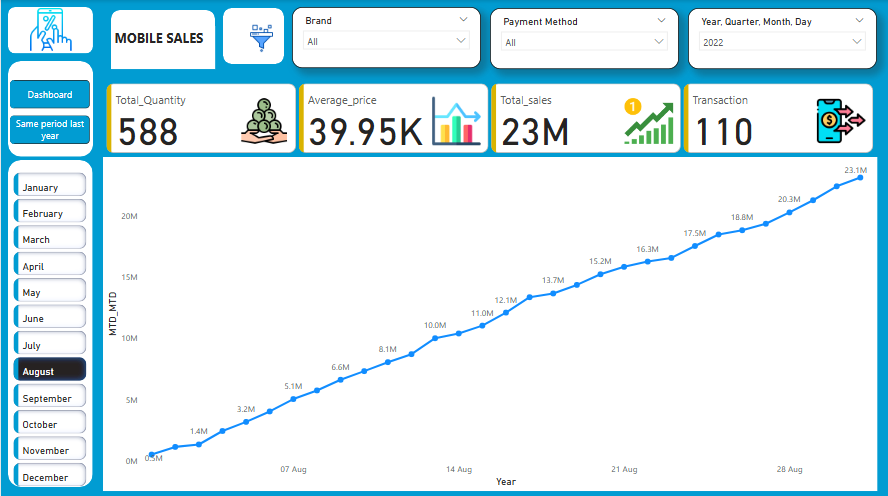

The dashboard page shown, as its layout file describes it:
{"tool":"powerbi","page":{"name":"MTD","canvas":[1280,720],"ordinal":2},"visuals":[{"type":"shape","box":[158.4,14.4,149.8,85],"z":0},{"type":"shape","box":[10.1,10.1,122.6,67.2],"z":1000},{"type":"shape","box":[10.1,87.3,122.6,137.7],"z":2000},{"type":"cardVisual","fields":{"Data":["sales_data.Total_Quantity","sales_data.Average_price","sales_data.Total_sales","sales_data.Transaction"]},"box":[146.9,115.2,1114.6,110.9],"z":3000},{"type":"slicer","fields":{"Values":["sales_data.Brand"]},"box":[419,10.1,272.2,87.8],"z":4000},{"type":"slicer","fields":{"Values":["sales_data.Payment Method"]},"box":[704.2,11.5,272.2,87.8],"z":5000},{"type":"slicer","fields":{"Values":["calender.Column1.Variation.Date Hierarchy.Year","calender.Column1.Variation.Date Hierarchy.Quarter","calender.Column1.Variation.Date Hierarchy.Month","calender.Column1.Variation.Date Hierarchy.Day"]},"box":[989.3,11.5,272.2,87.8],"z":6000},{"type":"shape","box":[319.7,11.5,87.8,80.6],"z":7000},{"type":"image","box":[331.2,30.2,87.8,50.4],"z":8000},{"type":"textbox","box":[158.4,37.4,149.8,61.9],"z":9000},{"type":"image","box":[28.8,4.3,85,76.3],"z":10000},{"type":"lineChart","fields":{"Category":["calender.Column1.Variation.Date Hierarchy.Year","calender.Column1.Variation.Date Hierarchy.Quarter","calender.Column1.Variation.Date Hierarchy.Month","calender.Column1.Variation.Date Hierarchy.Day"],"Y":["calender.MTD_MTD"]},"box":[146.9,226.1,1114.6,481],"z":11000},{"type":"shape","box":[10.1,230.4,122.4,470.9],"z":12000},{"type":"advancedSlicerVisual","fields":{"Values":["calender.Column1.Variation.Date Hierarchy.Month"]},"box":[13.4,243.6,115.9,467],"z":13000},{"type":"pageNavigator","box":[13,115.2,115.2,93.6],"z":14000}]}

Visuals, with their boxes in screenshot pixels (x1, y1, x2, y2), scaled from the page's 1280x720 canvas onto the 888x496 screenshot:
shape: (x1=110, y1=10, x2=214, y2=68)
shape: (x1=7, y1=7, x2=92, y2=53)
shape: (x1=7, y1=60, x2=92, y2=155)
cardVisual - sales_data.Total_Quantity x sales_data.Average_price: (x1=102, y1=79, x2=875, y2=156)
slicer - sales_data.Brand: (x1=291, y1=7, x2=480, y2=67)
slicer - sales_data.Payment Method: (x1=489, y1=8, x2=677, y2=68)
slicer - calender.Column1.Variation.Date Hierarchy.Year x calender.Column1.Variation.Date Hierarchy.Quarter: (x1=686, y1=8, x2=875, y2=68)
shape: (x1=222, y1=8, x2=283, y2=63)
image: (x1=230, y1=21, x2=291, y2=56)
textbox: (x1=110, y1=26, x2=214, y2=68)
image: (x1=20, y1=3, x2=79, y2=56)
lineChart - calender.Column1.Variation.Date Hierarchy.Year x calender.Column1.Variation.Date Hierarchy.Quarter: (x1=102, y1=156, x2=875, y2=487)
shape: (x1=7, y1=159, x2=92, y2=483)
advancedSlicerVisual - calender.Column1.Variation.Date Hierarchy.Month: (x1=9, y1=168, x2=90, y2=490)
pageNavigator: (x1=9, y1=79, x2=89, y2=144)
